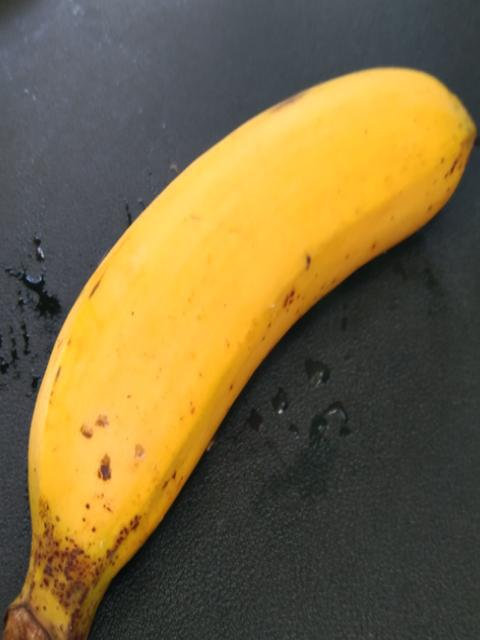freshripe: (20, 47, 479, 571)
